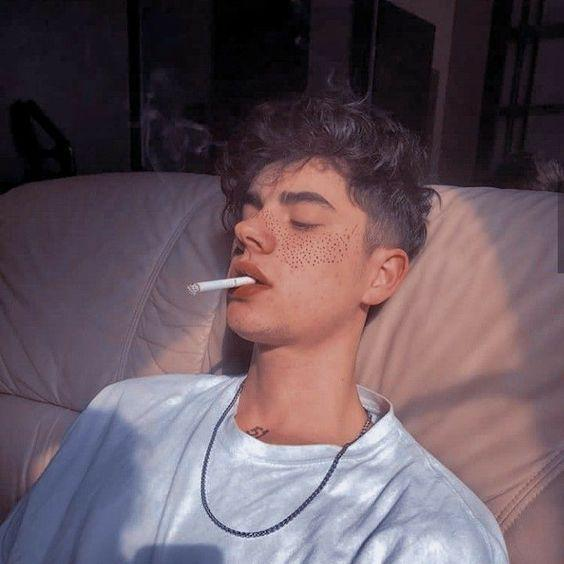cigarette: (186, 276, 256, 295)
